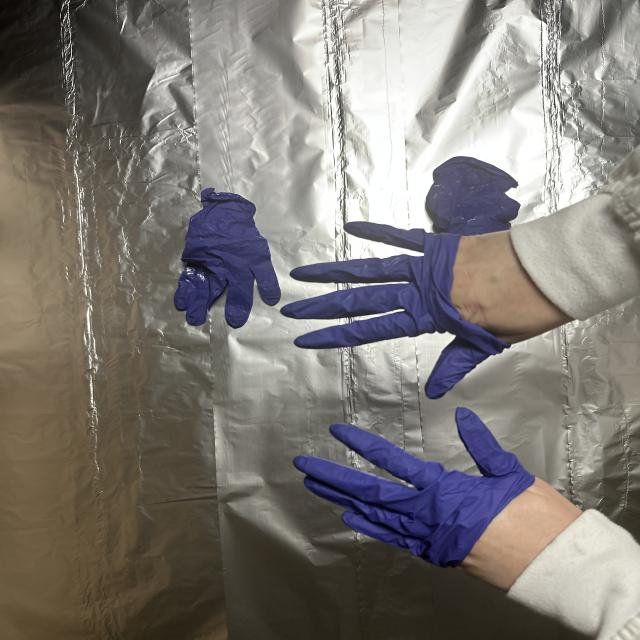glove_partial: (290, 393, 585, 597), (277, 218, 578, 402)
